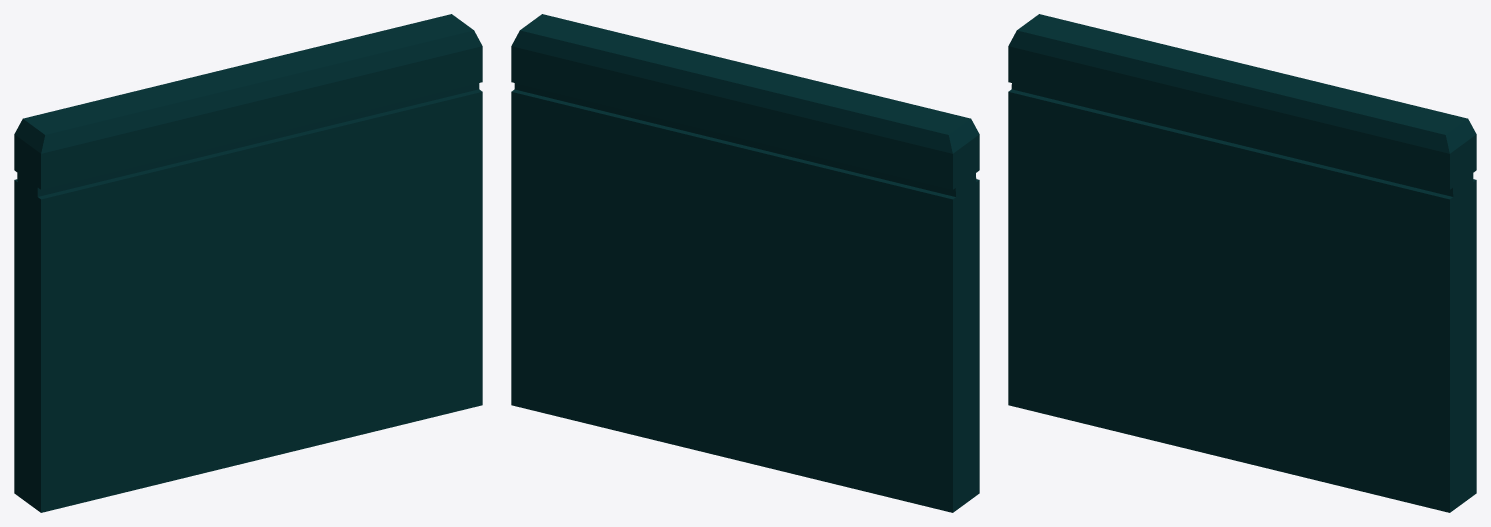
The model's file is Stone_Wall regular.FBX.
3 views of the same model, side by side, from view 1: azimuth 30°, elevation 25°; view 2: azimuth 150°, elevation 25°; view 3: azimuth 330°, elevation 25° (orthographic).
Parts seen in each view (by area): view 1: Box025; view 2: Box025; view 3: Box025.
Part boxes in pixels (x1,y1,x2,y2): Box025: (14,14,482,512); Box025: (511,14,979,512); Box025: (1008,14,1476,512).
Size of the model in its own units: 10.18 by 8.26 by 1.07.
